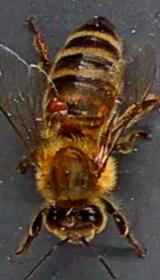varroa_mite: (40, 95, 72, 113)
